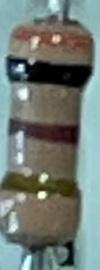Black: (4, 56, 92, 88)
Brown: (8, 114, 80, 144)
Orange: (10, 24, 95, 51)
Side-Gold: (2, 170, 77, 198)
